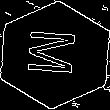M_E: (25, 30, 85, 80)
